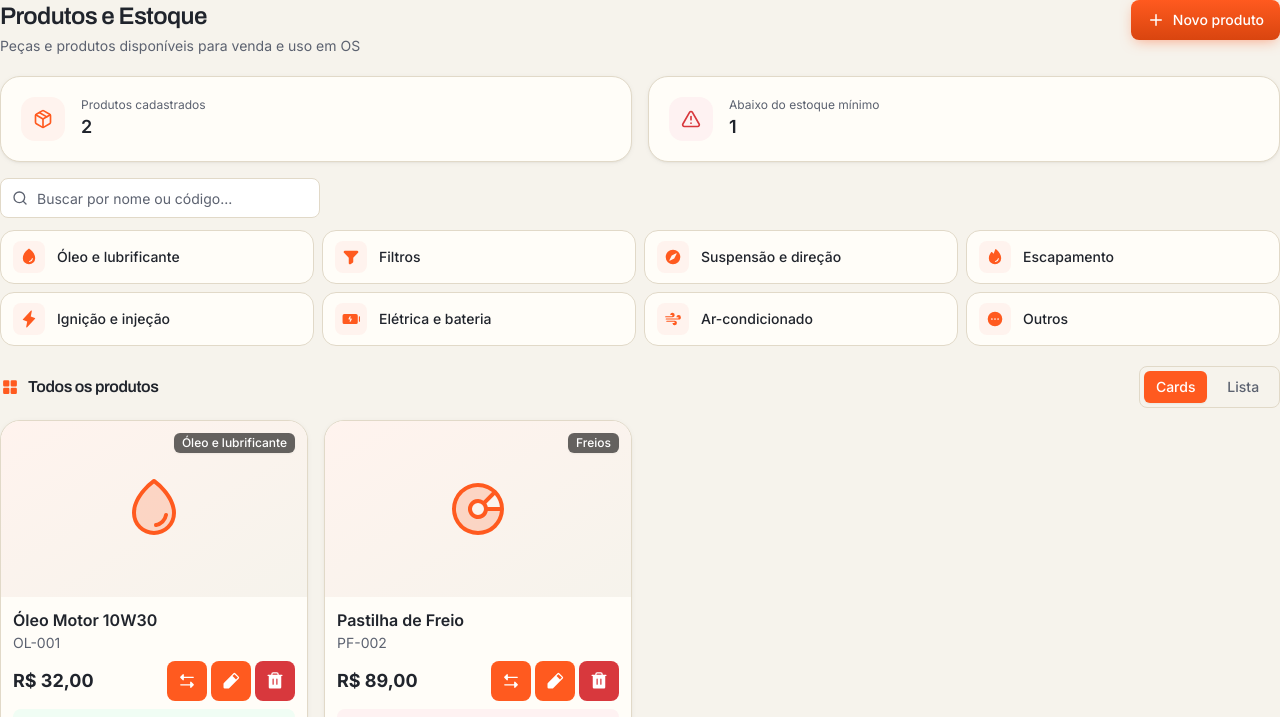
Test: ProdutosPage › opens the edit modal when a row is clicked
The width and height of the screenshot is (1280, 717).
Click the text "Óleo Motor 10W30" at point(85, 620), box [13,610,157,630]
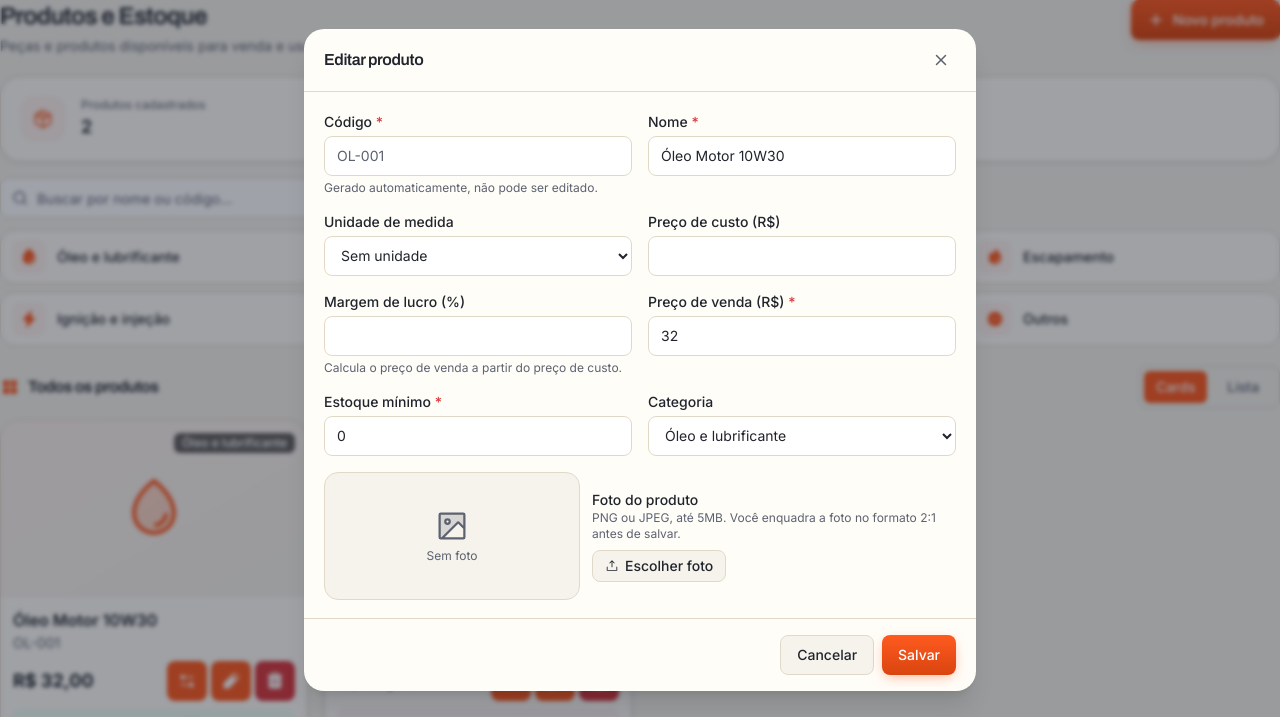
Expected: the heading "Editar produto" is shown, [324,48,423,72]
